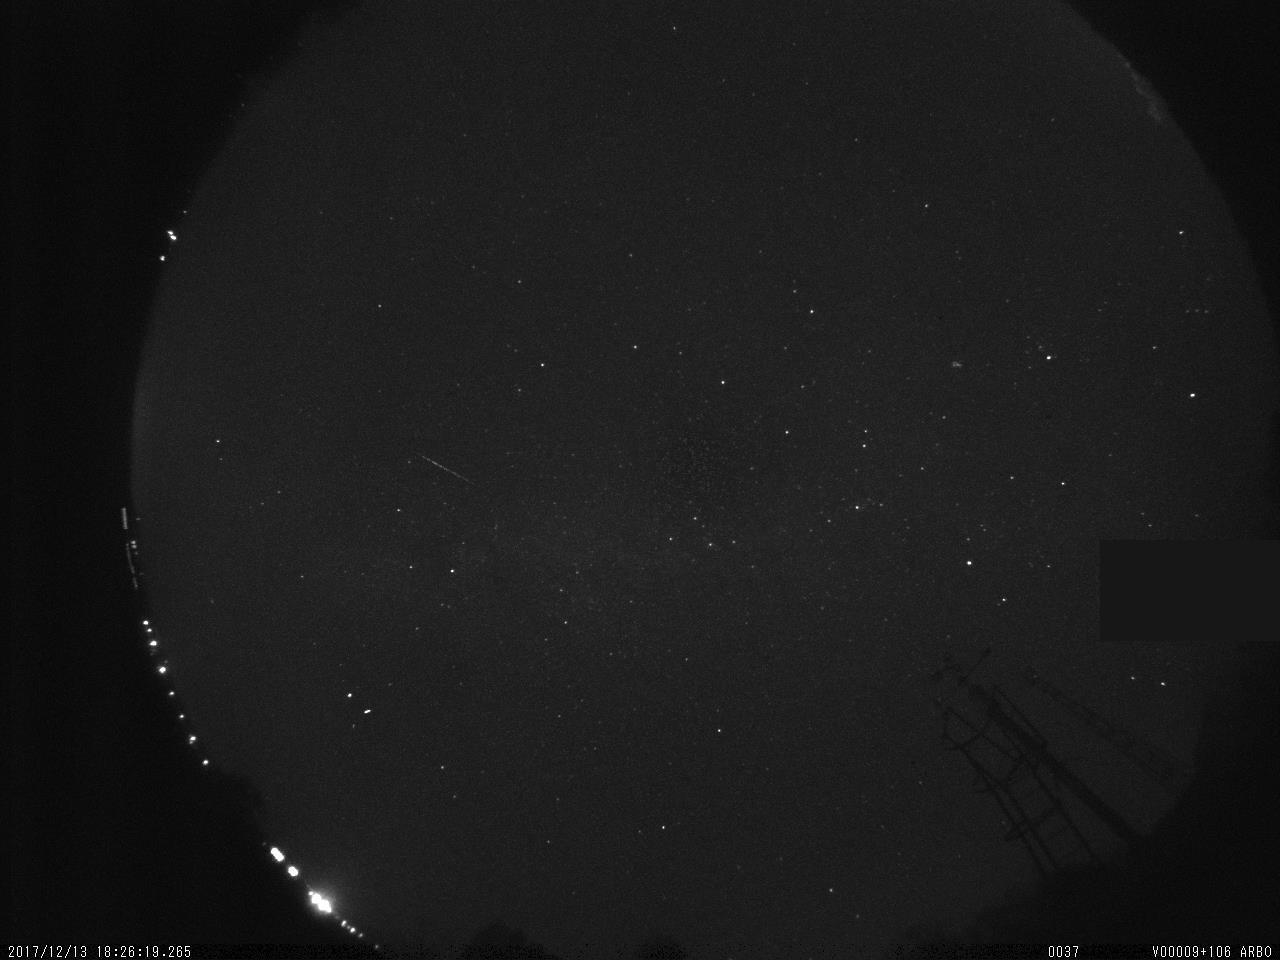meteor: (408, 444, 488, 495)
